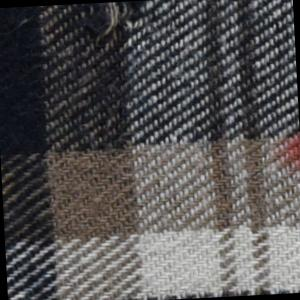Damage: (61, 1, 151, 48)
Stain: (272, 124, 300, 176)
